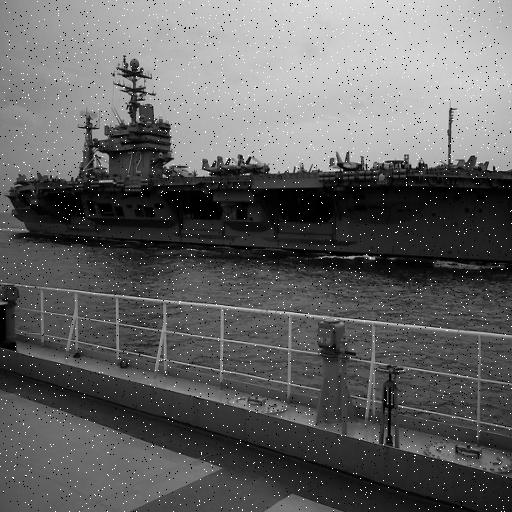Portanaves: (2, 60, 512, 264)
